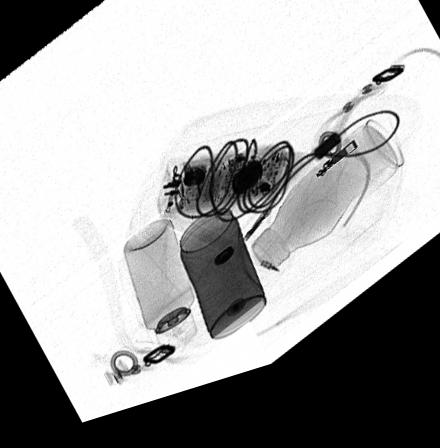Sprayer: (122, 228, 197, 363)
